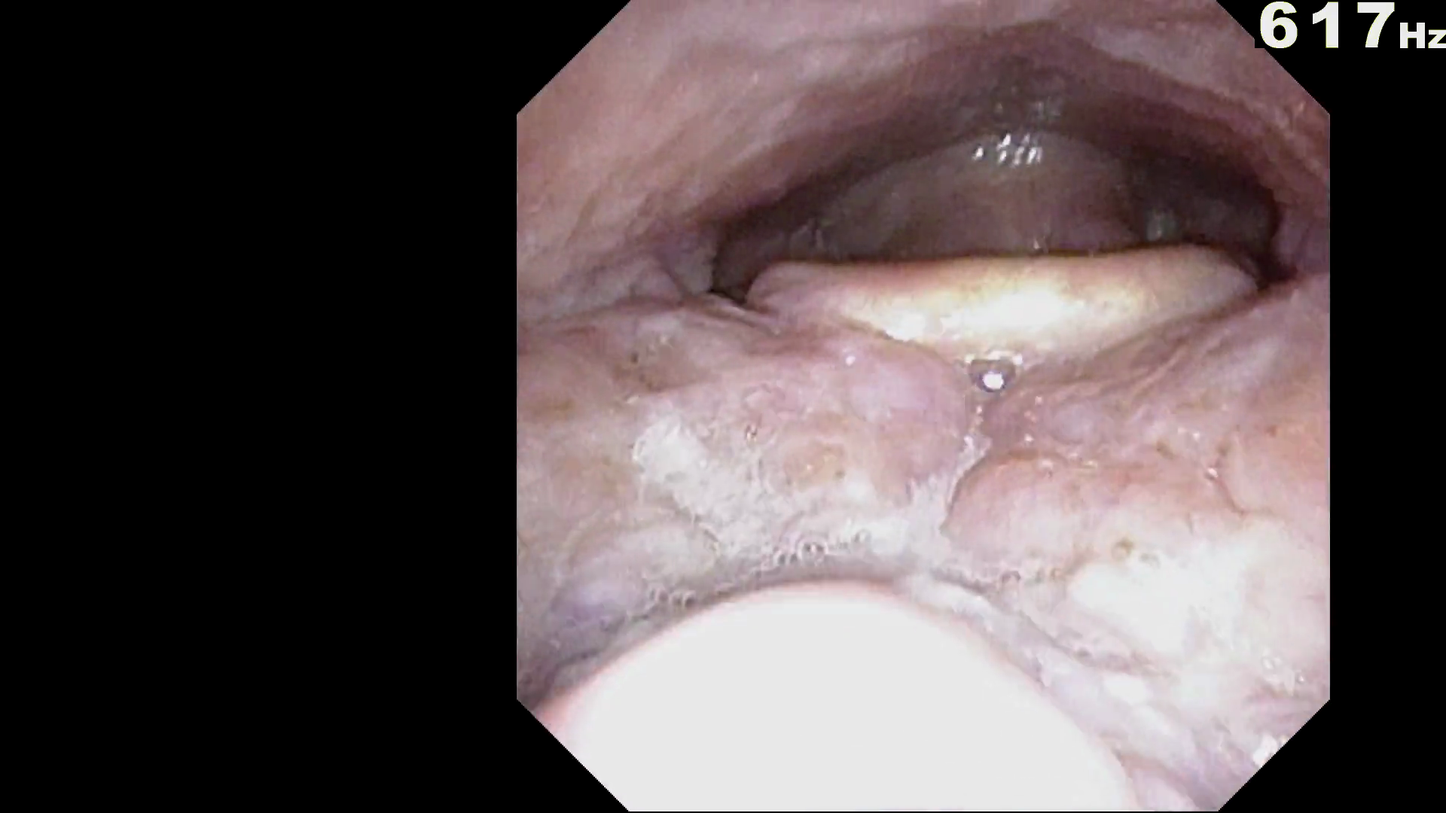epiglottis: (723, 199, 1284, 438)
trachea: (951, 189, 1049, 279)
